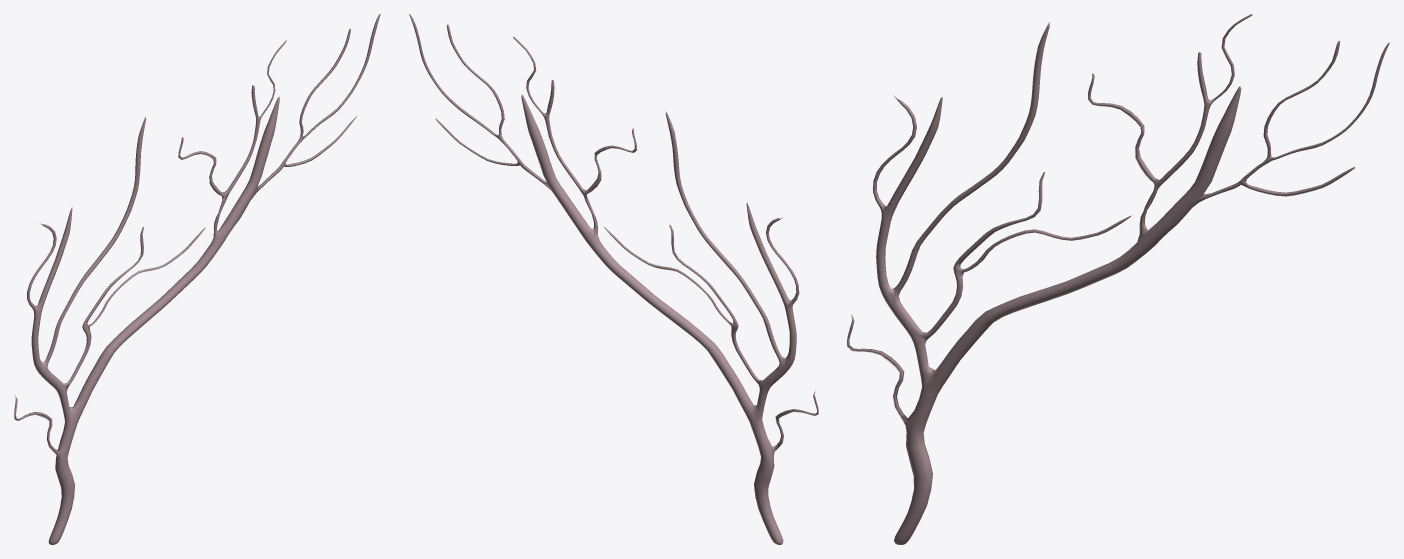
3 renders of one model, left to right at view 1: azimuth 30°, elevation 25°; view 2: azimuth 150°, elevation 25°; view 3: azimuth 330°, elevation 25°, orthographic. The views are drawn at different scales.
Visible parts, largest first — view 1: coral_root_6_retop; view 2: coral_root_6_retop; view 3: coral_root_6_retop.
Boxes of the visible parts, x1=… form: coral_root_6_retop: x1=14, y1=14, x2=380, y2=544; coral_root_6_retop: x1=409, y1=14, x2=818, y2=544; coral_root_6_retop: x1=847, y1=14, x2=1389, y2=544.
Size of the model in its own units: 72.69 by 79.79 by 5.69.
